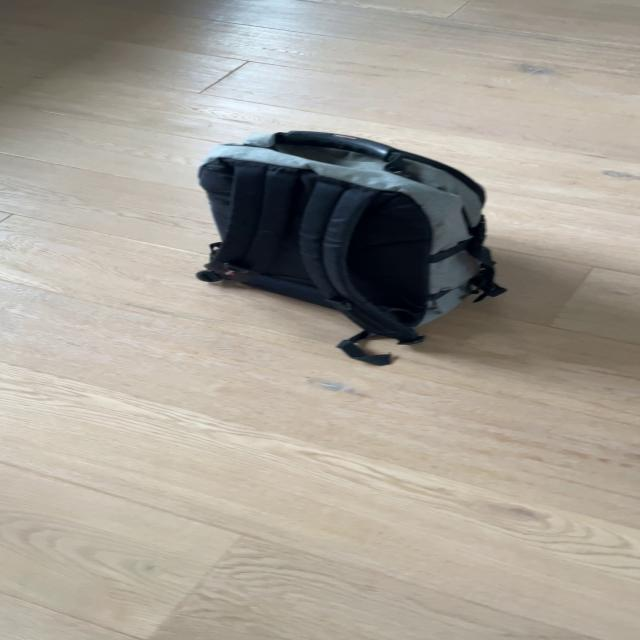backpack: (184, 117, 510, 349)
